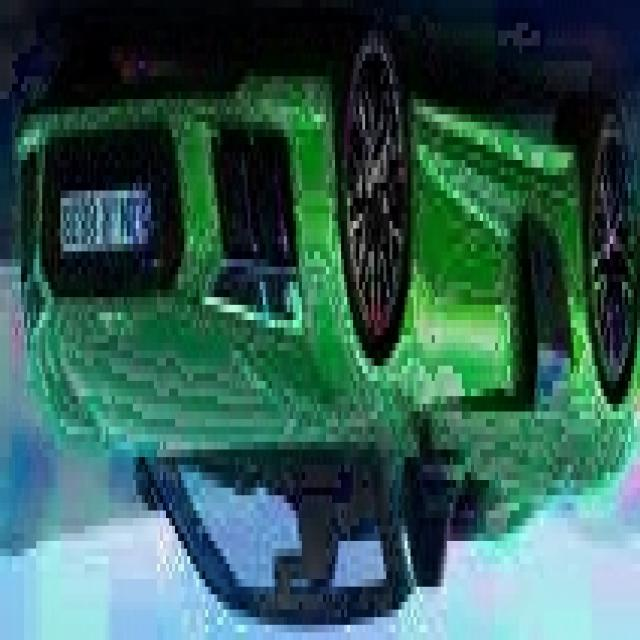green: (15, 23, 640, 632)
